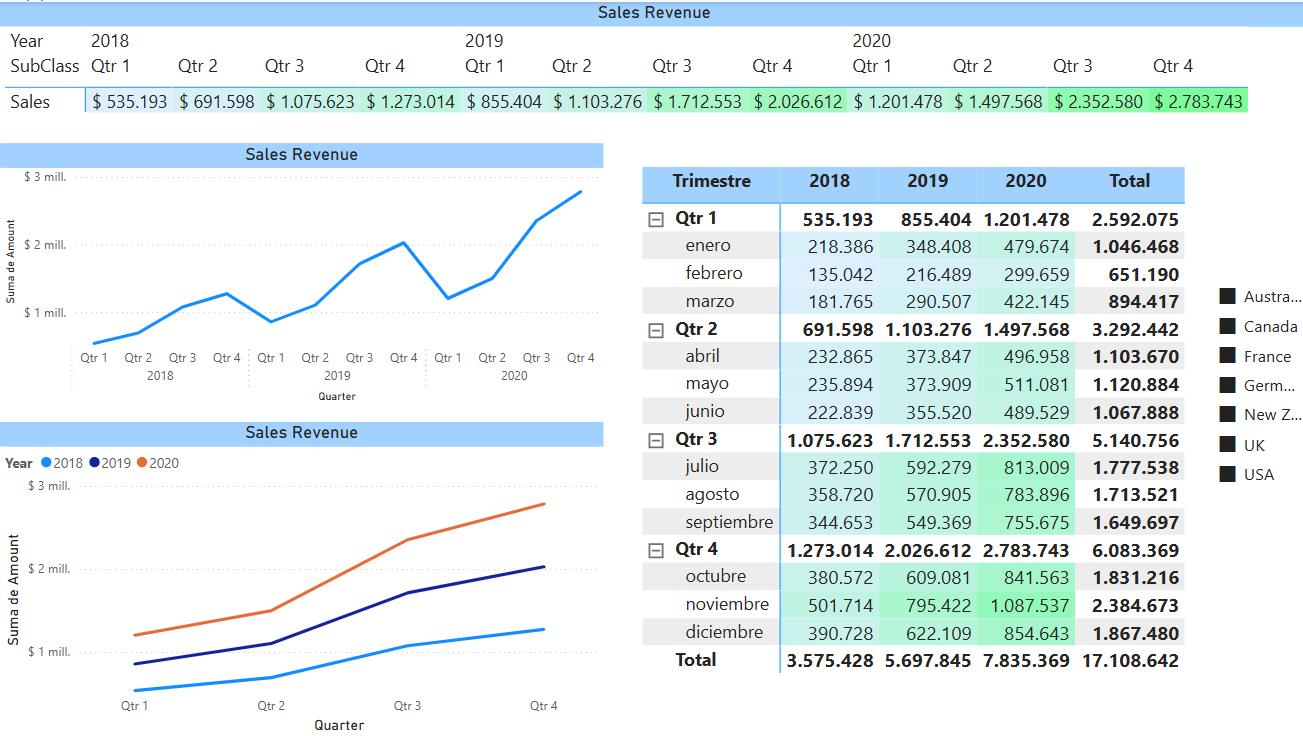

What the dashboard file says about the page in this screenshot:
{"tool":"powerbi","page":{"name":"Sales","canvas":[1280,720],"ordinal":0},"visuals":[{"type":"pivotTable","title":"Sales Revenue","fields":{"Values":["Sum(Fact_tbl_GL_.Amount)"],"Rows":["tbl_COA.SubClass"],"Columns":["tbl_Calendar.Year","tbl_Calendar.Quarter","tbl_Calendar.Month"]},"box":[0,0,1280.3,124.7],"z":0},{"type":"lineChart","title":"Sales Revenue","fields":{"Category":["tbl_Calendar.Year","tbl_Calendar.Quarter","tbl_Calendar.Month"],"Y":["Sum(Fact_tbl_GL_.Amount)"]},"box":[0,138.2,590.6,259.2],"z":1000},{"type":"lineChart","title":"Sales Revenue","fields":{"Category":["tbl_Calendar.Quarter","tbl_Calendar.Month"],"Y":["Sum(Fact_tbl_GL_.Amount)"],"Series":["tbl_Calendar.Year"]},"box":[0,410.9,590.6,309.4],"z":2000},{"type":"slicer","fields":{"Values":["tbl_territory.Country"]},"box":[1180,267.8,100.3,215.2],"z":3000},{"type":"pivotTable","fields":{"Columns":["tbl_Calendar.Year"],"Values":["Fact_tbl_GL_.Total_FTP"],"Rows":["tbl_Calendar.Date.Variación.Jerarquía de fechas.Trimestre","tbl_Calendar.Date.Variación.Jerarquía de fechas.Mes"]},"box":[623.6,156.5,556.4,530.7],"z":4000}]}

Visuals, with their boxes in screenshot pixels (x1, y1, x2, y2), scaled from the page's 1280x720 canvas onto the 1303x736 screenshot:
"Sales Revenue" pivotTable: left=0, top=0, right=1302, bottom=127
"Sales Revenue" lineChart: left=0, top=141, right=601, bottom=406
"Sales Revenue" lineChart: left=0, top=420, right=601, bottom=735
slicer - tbl_territory.Country: left=1201, top=274, right=1302, bottom=494
pivotTable - tbl_Calendar.Year x Fact_tbl_GL_.Total_FTP: left=635, top=160, right=1201, bottom=702
